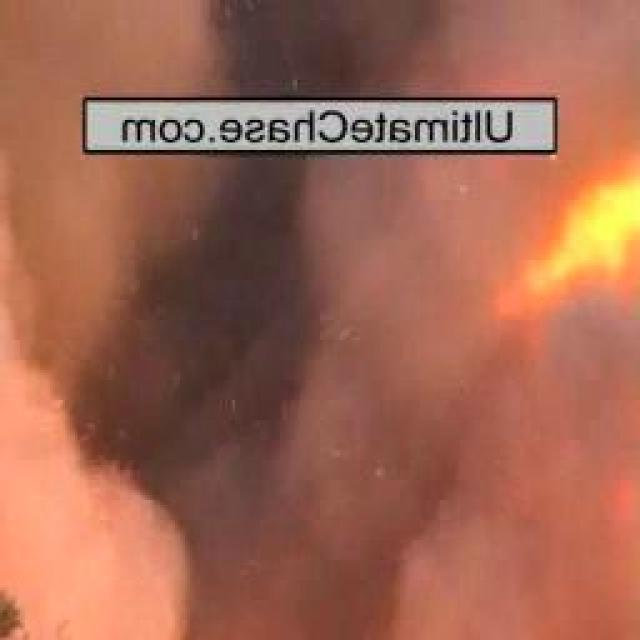Fire: (481, 144, 640, 329)
